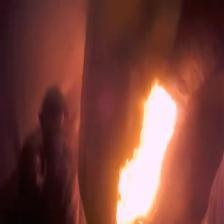fire: (119, 83, 171, 222)
